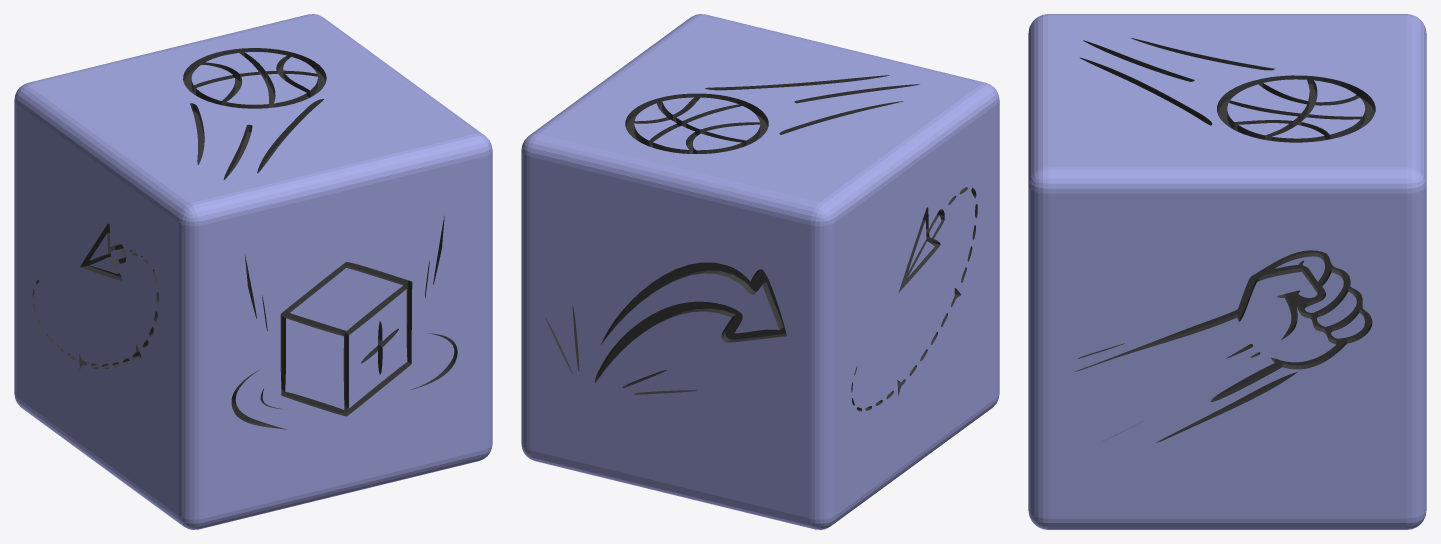
File: toolDice.glb
3 renders of one model, left to right at view 1: azimuth 30°, elevation 25°; view 2: azimuth 150°, elevation 25°; view 3: azimuth 270°, elevation 25°, orthographic. The views are drawn at different scales.
Visible parts, largest first — view 1: 立方体.001; view 2: 立方体.001; view 3: 立方体.001.
Part boxes in pixels (left/top/right/bottom): 立方体.001: left=14, top=14, right=492, bottom=529; 立方体.001: left=521, top=14, right=999, bottom=529; 立方体.001: left=1028, top=14, right=1426, bottom=529.
Size of the model in its own units: 1 by 1 by 1.
